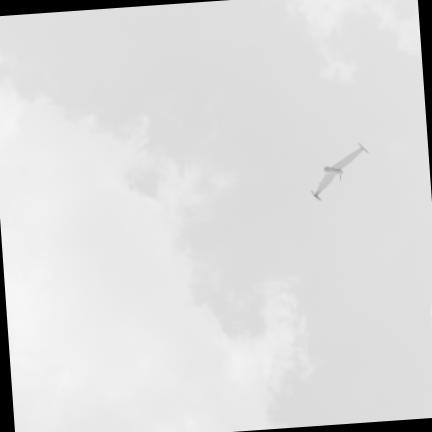Shahed: (310, 142, 367, 199)
